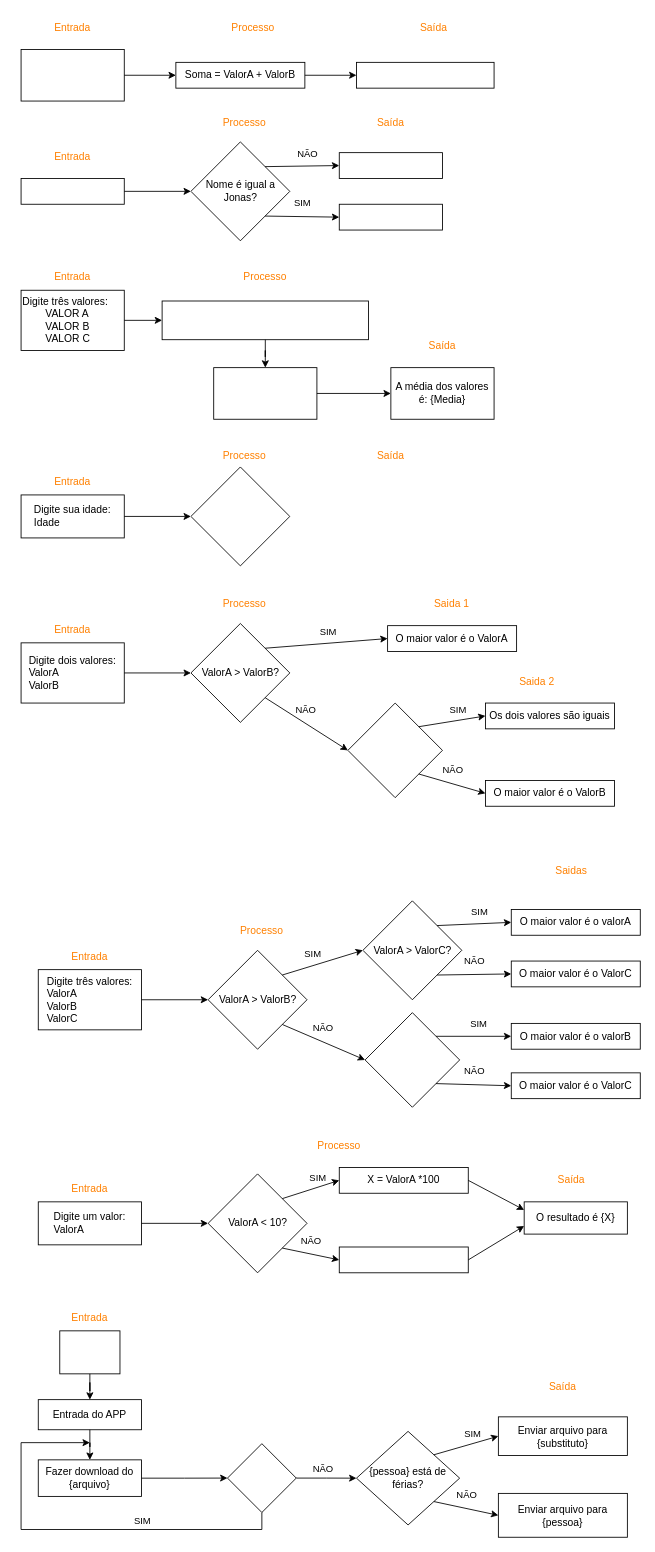
Image size: 655x1552. Some labels were removed from this diagram. Each missing label, with the centre of its shape:
"arquivo pessoa substituto" belongs at (x=89, y=1352).
"Bem vindo Jonas" belongs at (x=390, y=216).
"Deu Erro?" belongs at (x=261, y=1477).
"Digite os números: VALOR A VALOR B" belongs at (x=72, y=75).
"Digite um Nome" belongs at (x=72, y=191).
"Exiba o resultado da {Soma}" belongs at (x=425, y=74).
"Idade >= 18?" belongs at (x=240, y=516).
"Media = {Soma} / 3" belongs at (x=265, y=393).
"Soma = VALOR A + VALOR B + VALOR C" belongs at (x=265, y=320).
"ValorA = ValorB?" belongs at (x=394, y=750).
"ValorB > ValorC?" belongs at (x=412, y=1059).
"Vá embora, você não é bem vindo aqui" belongs at (x=390, y=165).
"X = ValorA +10" belongs at (x=403, y=1259).
